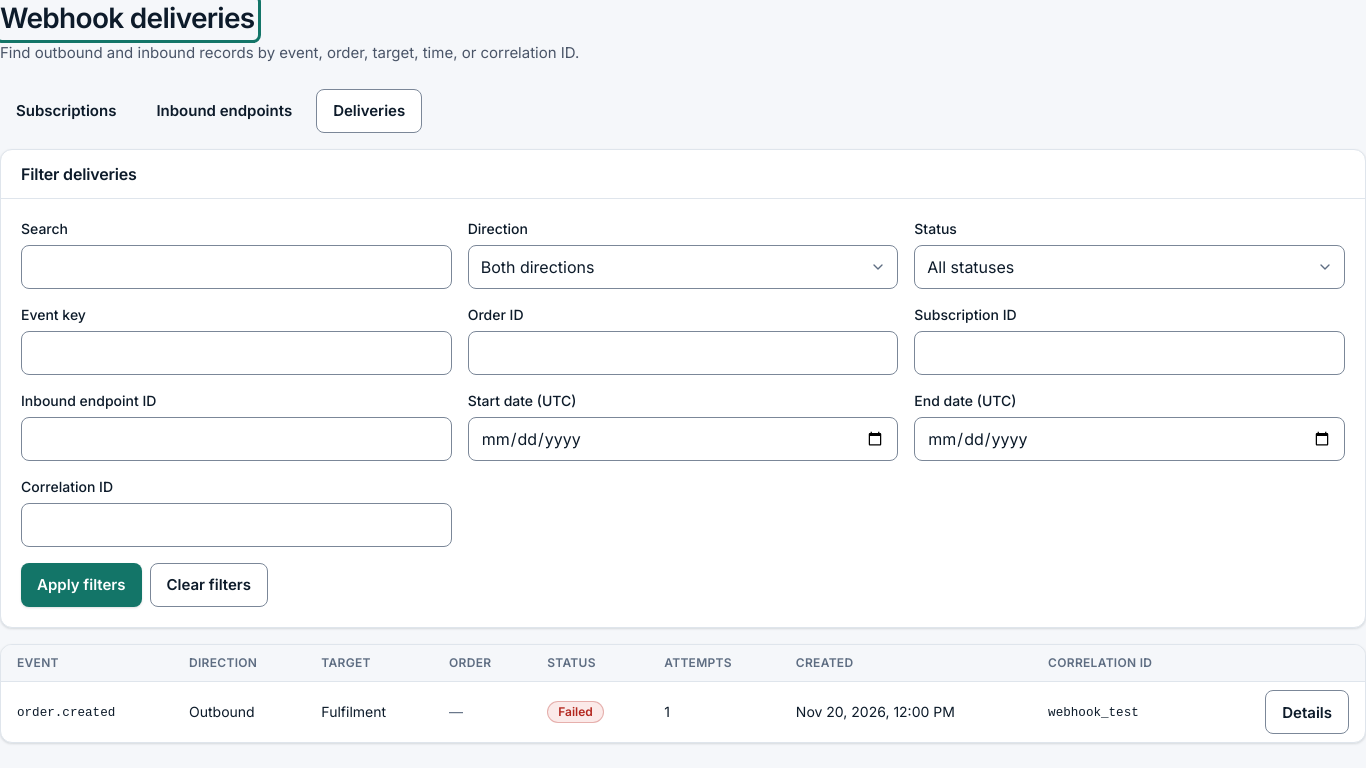
Test: Webhooks administration › keeps delivery details available while off without offering rerun
Click the button "Details". click: (1307, 712)
box: [1265, 690, 1349, 734]
(page scrolled)
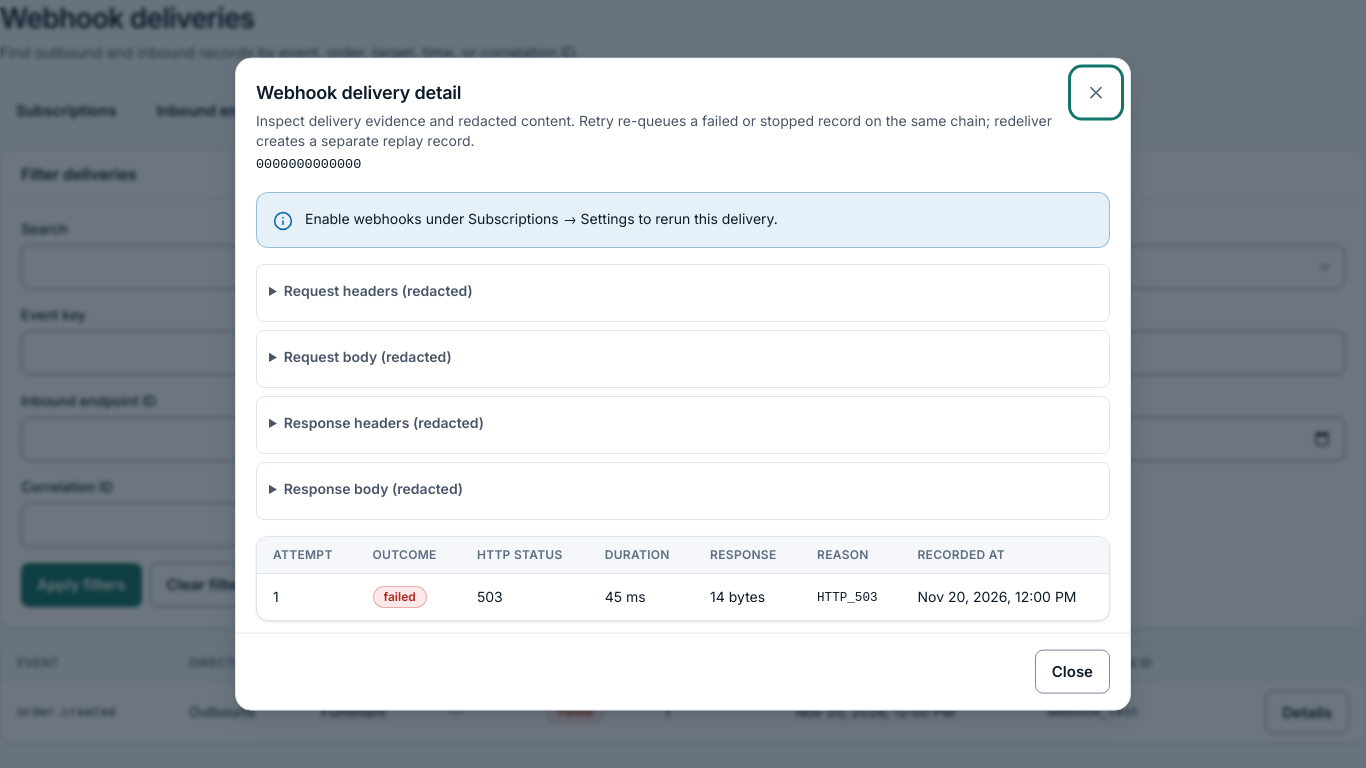
Expected: the text "Enable webhooks under Subscriptions" is shown, [305, 209, 778, 226]
Expected: the table named "Delivery attempts" is shown, [257, 536, 1109, 619]
